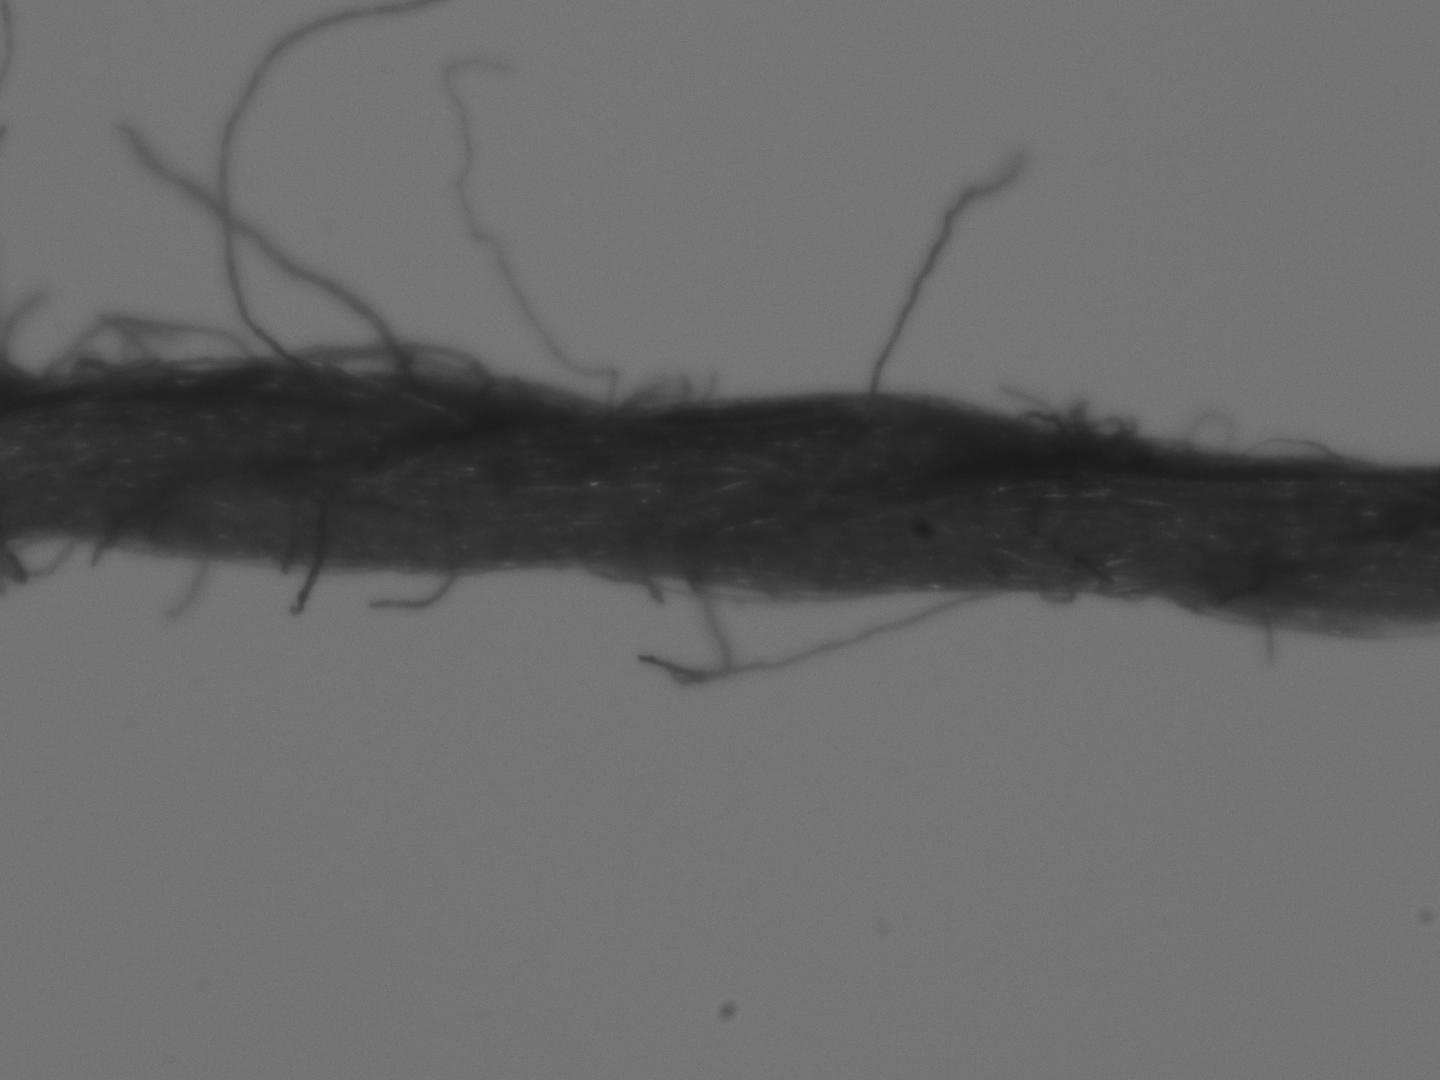loop_fiber: (638, 572, 1017, 685), (39, 312, 266, 376), (235, 338, 484, 386), (999, 400, 1143, 441), (604, 369, 721, 407), (0, 526, 82, 579), (1240, 429, 1348, 465), (1178, 403, 1230, 463)
protruding_fiber: (212, 0, 444, 385), (120, 119, 427, 388), (437, 57, 619, 411), (869, 152, 1036, 398), (371, 563, 454, 610), (159, 550, 207, 622), (288, 540, 322, 615)
